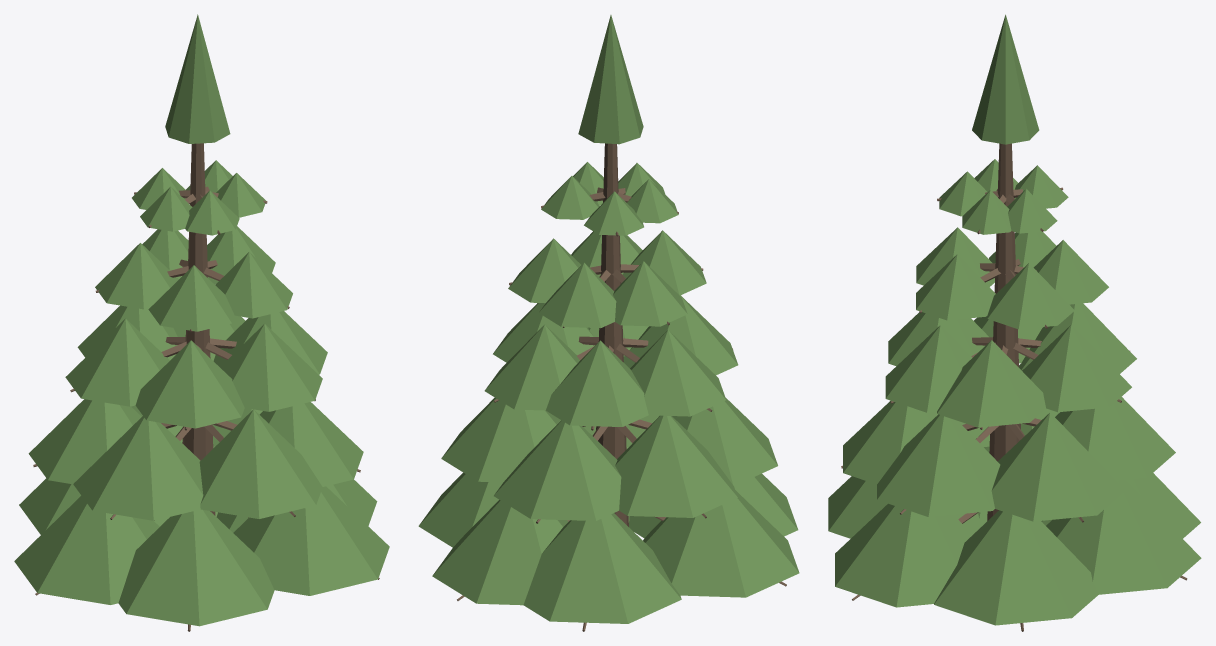
Rendered from tree_pine.glb.
3 renders of one model, left to right at view 1: azimuth 30°, elevation 25°; view 2: azimuth 150°, elevation 25°; view 3: azimuth 270°, elevation 25°, orthographic.
Visible parts, largest first — view 1: tree_pine; view 2: tree_pine; view 3: tree_pine.
Part boxes in pixels (x1,y1,x2,y2): tree_pine: (14, 14, 389, 631); tree_pine: (418, 15, 799, 631); tree_pine: (828, 14, 1201, 631).
Size of the model in its own units: 5.96 by 9.25 by 5.52.
